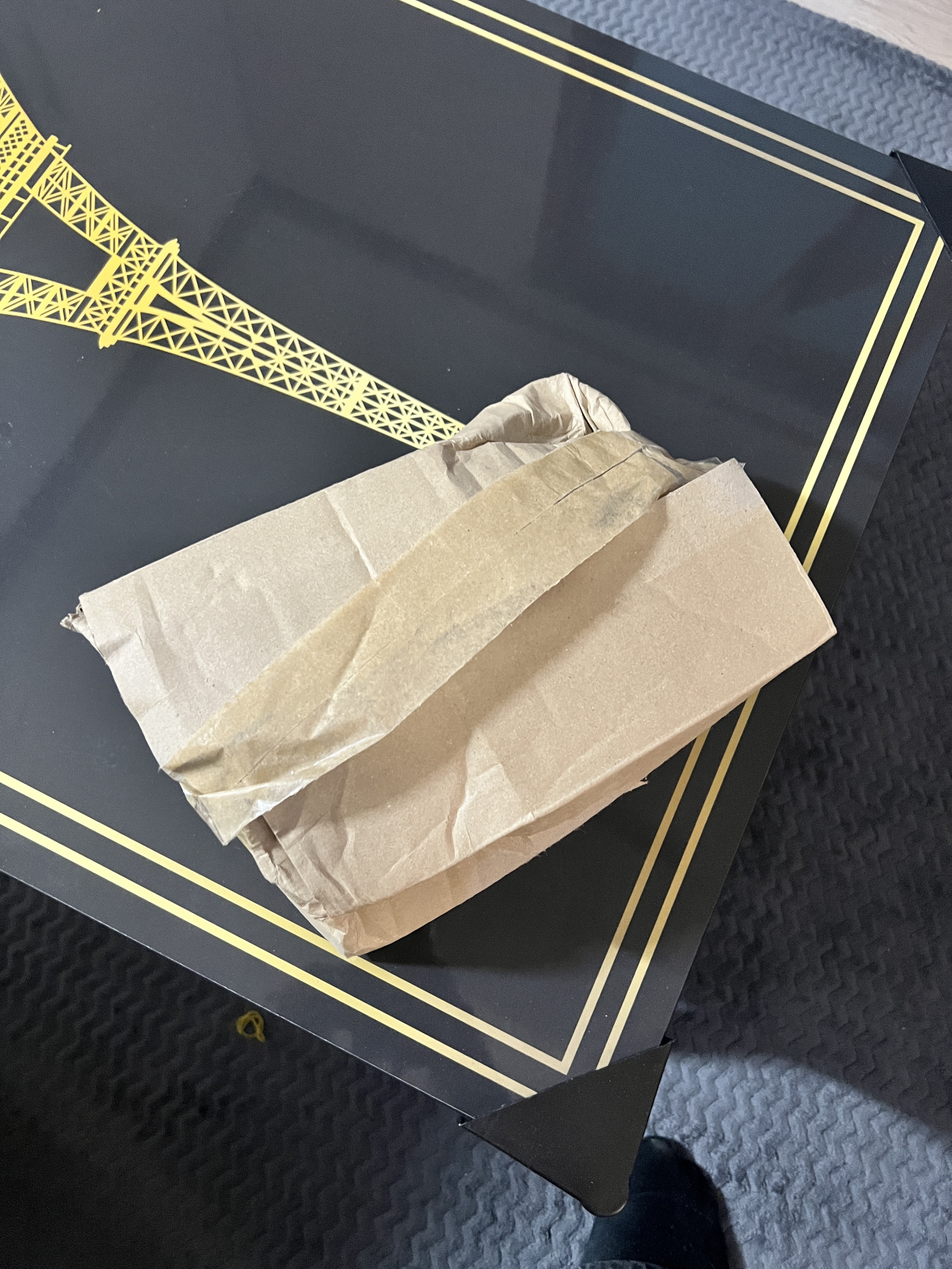damaged package: (186, 381, 769, 806)
